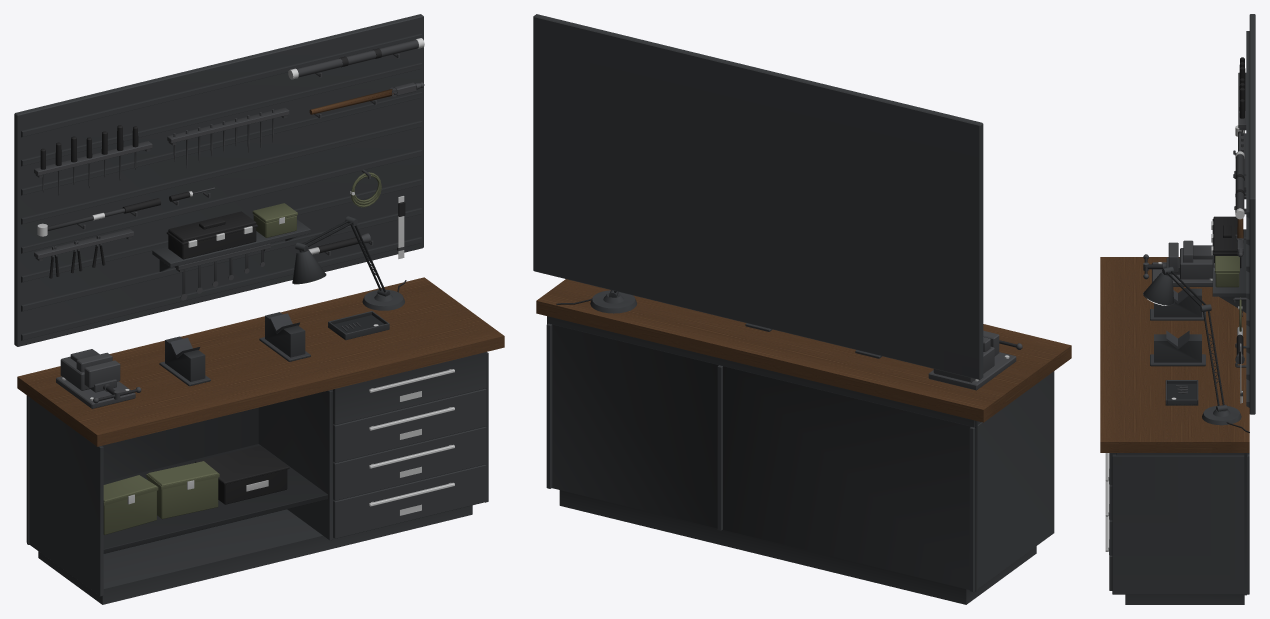
File: armory_bench.gltf
The picture shows the model from 3 angles, left to right: view 1: azimuth 30°, elevation 25°; view 2: azimuth 150°, elevation 25°; view 3: azimuth 270°, elevation 25°; orthographic projection. The views are drawn at different scales.
Parts seen in each view (by area): view 1: ArmoryBench_Graphite, ArmoryBench_Walnut, ArmoryBench_Gunmetal, ArmoryBench_Polymer, ArmoryBench_Olive, ArmoryBench_Stainless, ArmoryBench_Lamp, ArmoryBench_Felt; view 2: ArmoryBench_Graphite, ArmoryBench_Walnut, ArmoryBench_Gunmetal, ArmoryBench_Lamp; view 3: ArmoryBench_Graphite, ArmoryBench_Walnut, ArmoryBench_Gunmetal, ArmoryBench_Lamp, ArmoryBench_Polymer, ArmoryBench_Stainless, ArmoryBench_Felt, ArmoryBench_Olive.
Part boxes in pixels (bbox=[...]): ArmoryBench_Graphite: bbox=[14, 14, 488, 604]; ArmoryBench_Walnut: bbox=[17, 89, 504, 446]; ArmoryBench_Gunmetal: bbox=[34, 39, 424, 408]; ArmoryBench_Polymer: bbox=[40, 48, 406, 504]; ArmoryBench_Olive: bbox=[103, 172, 381, 534]; ArmoryBench_Stainless: bbox=[37, 38, 454, 515]; ArmoryBench_Lamp: bbox=[292, 216, 404, 310]; ArmoryBench_Felt: bbox=[170, 313, 384, 358]; ArmoryBench_Graphite: bbox=[533, 14, 1054, 604]; ArmoryBench_Walnut: bbox=[536, 279, 1071, 422]; ArmoryBench_Gunmetal: bbox=[928, 330, 1022, 390]; ArmoryBench_Lamp: bbox=[590, 290, 637, 313]; ArmoryBench_Graphite: bbox=[1109, 14, 1255, 604]; ArmoryBench_Walnut: bbox=[1100, 218, 1249, 452]; ArmoryBench_Gunmetal: bbox=[1143, 72, 1246, 396]; ArmoryBench_Lamp: bbox=[1143, 266, 1241, 425]; ArmoryBench_Polymer: bbox=[1212, 57, 1249, 433]; ArmoryBench_Stainless: bbox=[1105, 125, 1244, 554]; ArmoryBench_Felt: bbox=[1166, 285, 1196, 399]; ArmoryBench_Olive: bbox=[1215, 256, 1241, 331].
Size of the model in its own units: 2.2 by 2.3 by 0.78.
8 materials, 1 textured.
